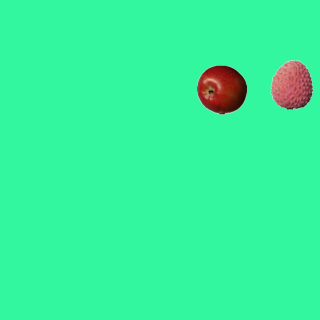Apple Braeburn: (196, 64, 246, 114)
Lychee: (266, 59, 316, 109)
